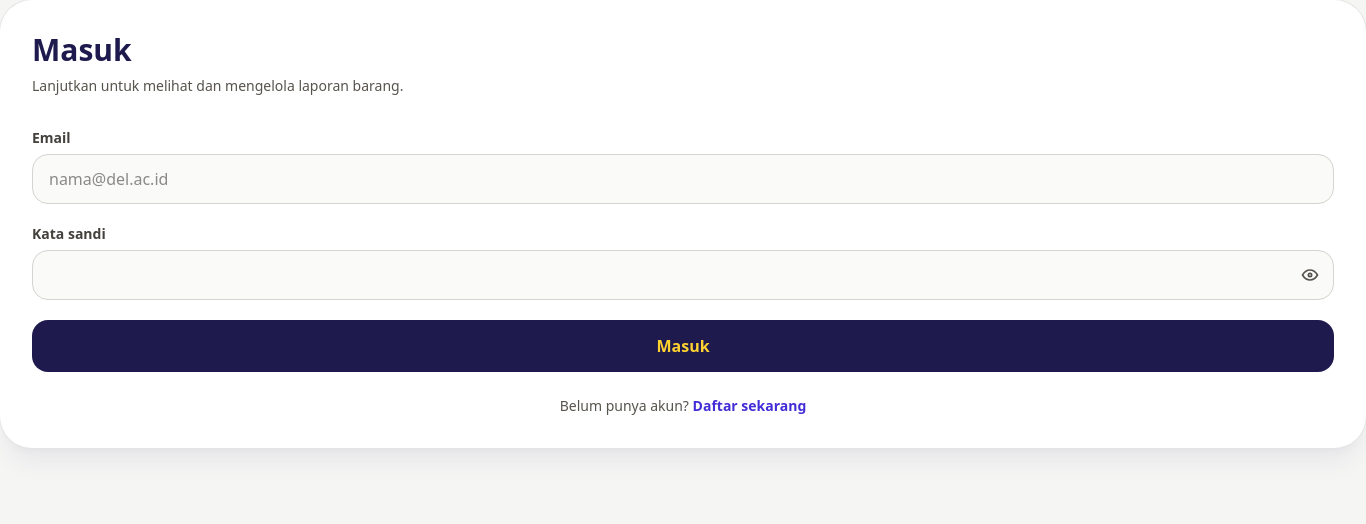
Test: LoginPage › menampilkan error validasi dan tidak memanggil API
Type "salah" into the field labelled "Email".
click(683, 179); type("salah")  # box top-left (32, 154), bottom-right (1334, 204)
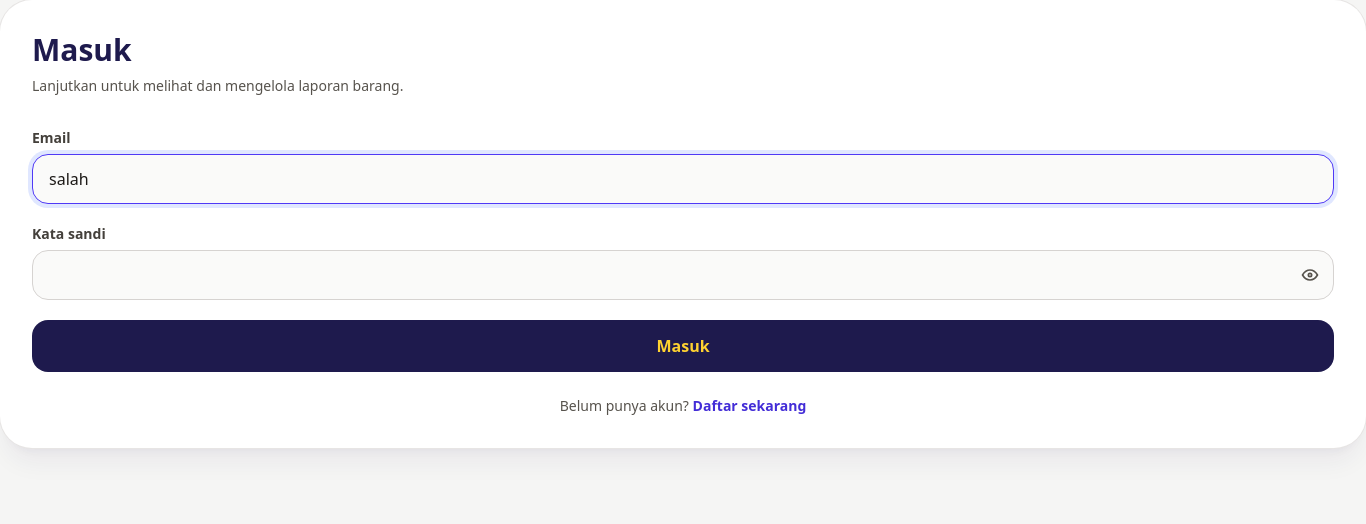
Type "123" into the password field labelled "Kata sandi".
click(683, 275); type("123")  # box top-left (32, 250), bottom-right (1334, 300)
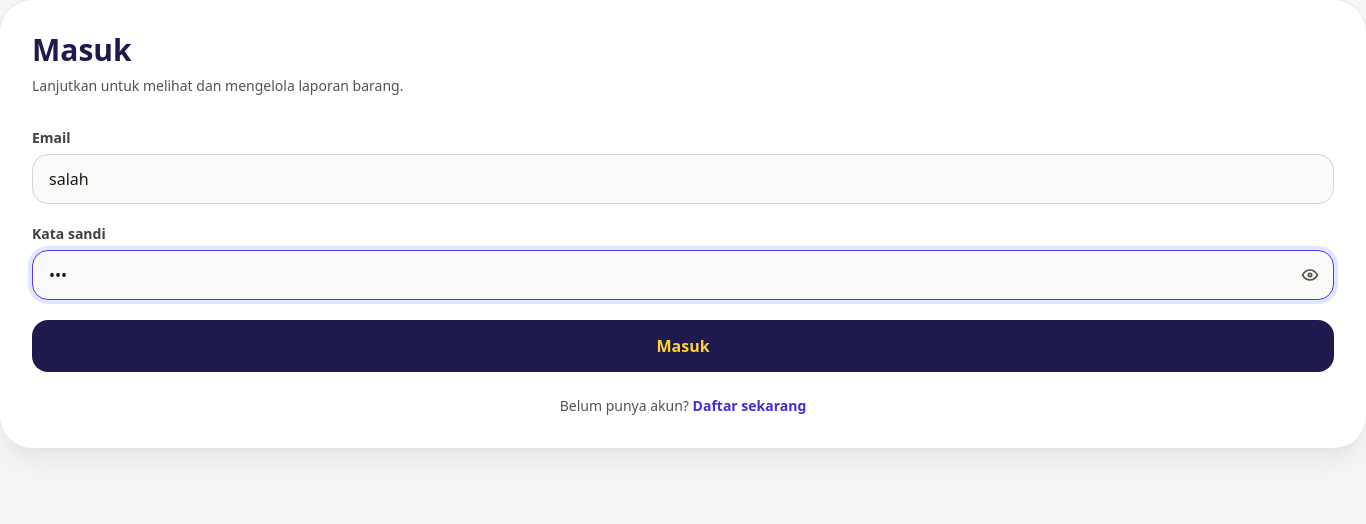
Click the button "Masuk".
click(683, 346)  # box top-left (32, 320), bottom-right (1334, 372)
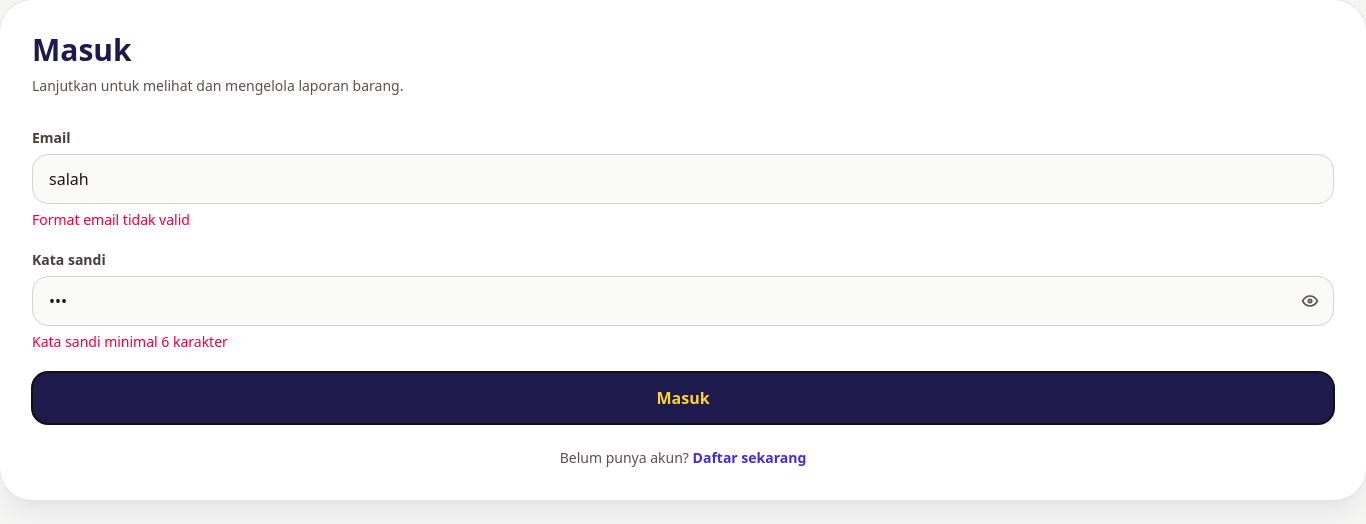
Expected: the text "Format email tidak valid" is shown, top-left (32, 210), bottom-right (190, 229)
Expected: the text "Kata sandi minimal 6 karakter" is shown, top-left (32, 332), bottom-right (228, 351)
